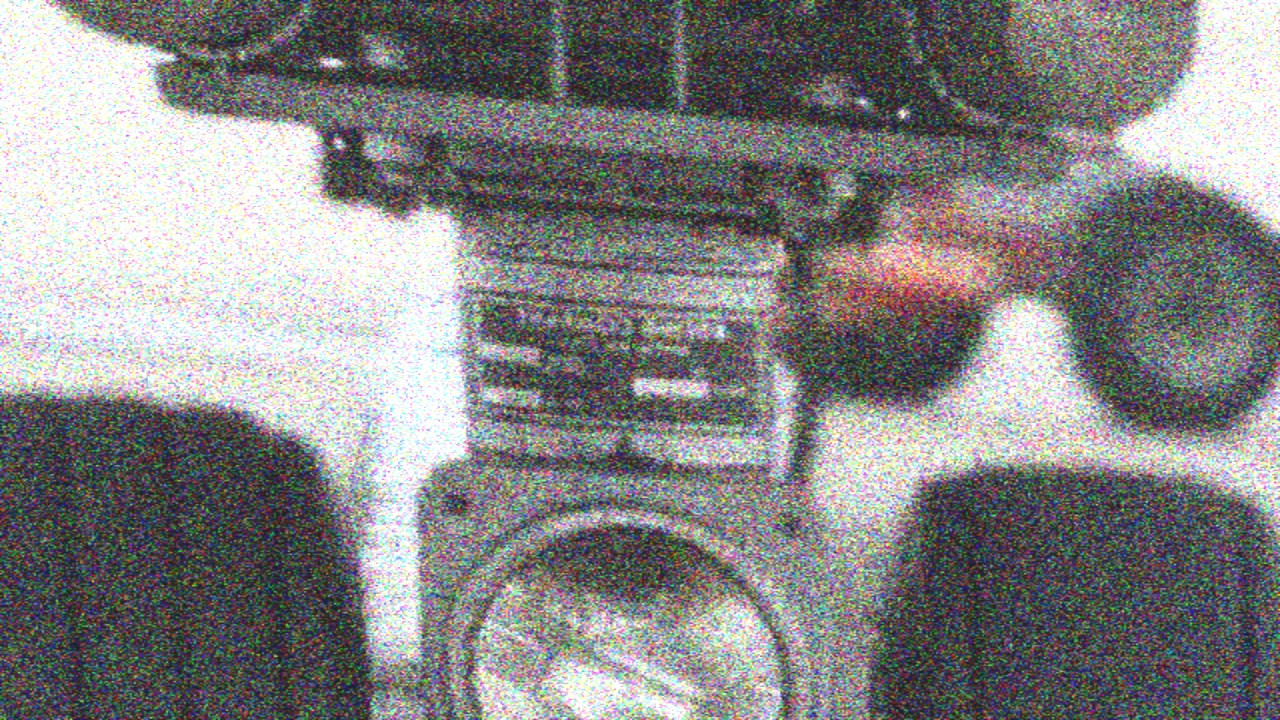wheel: (0, 376, 433, 720), (869, 443, 1280, 720), (1076, 174, 1280, 429), (813, 272, 984, 404)
